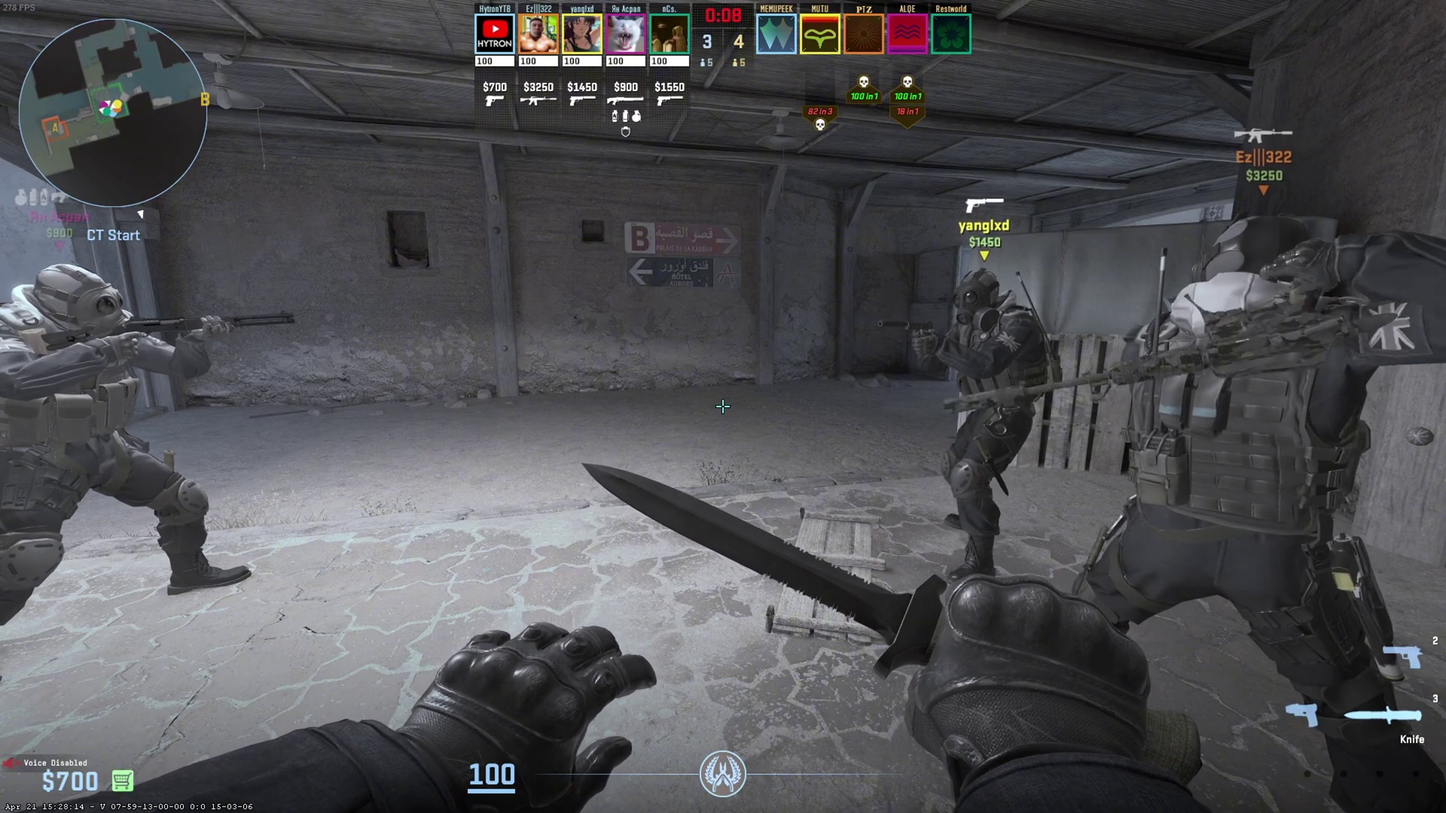CT: (1100, 214, 1443, 810), (0, 264, 249, 596), (929, 270, 1049, 570)
